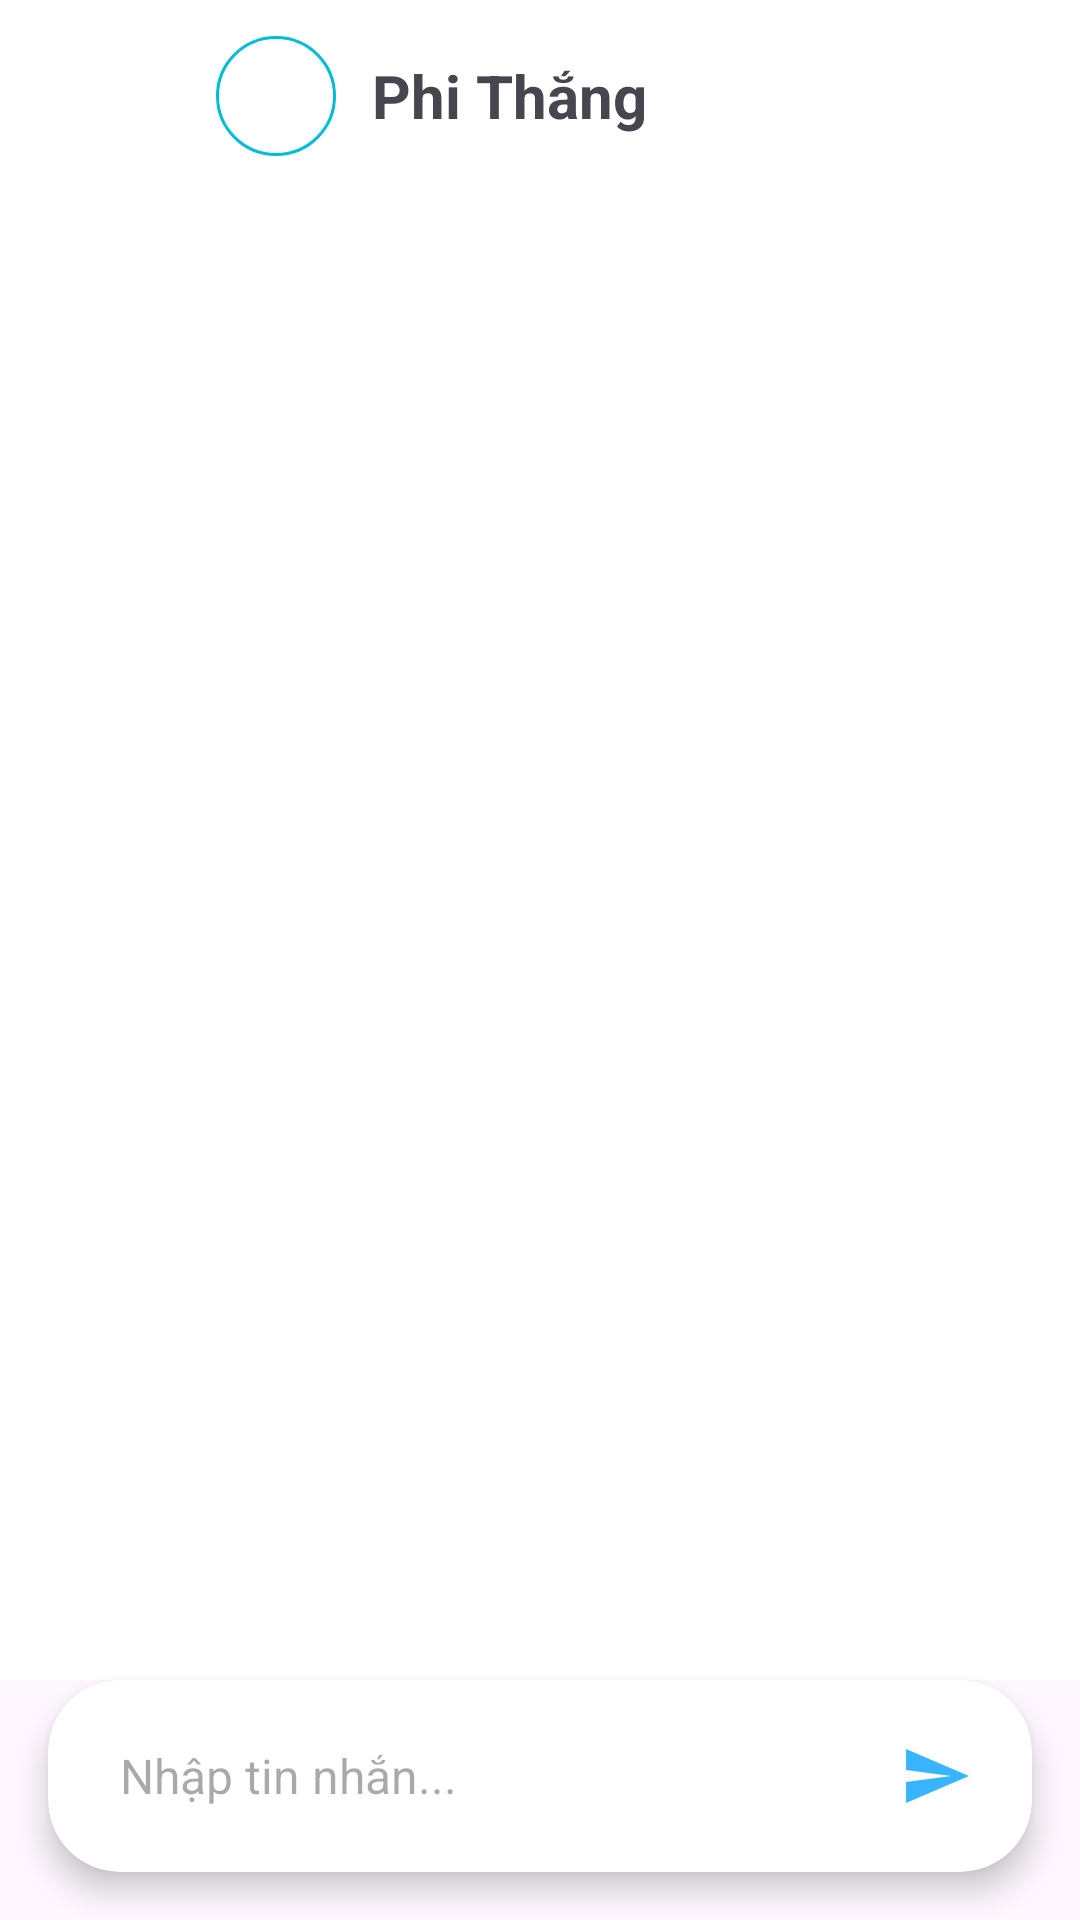

Where to tap for icons on this 1080*1920 app screen, as [x,y]:
Send Message: [937,1776]
